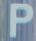Parking: (7, 2, 34, 40)
